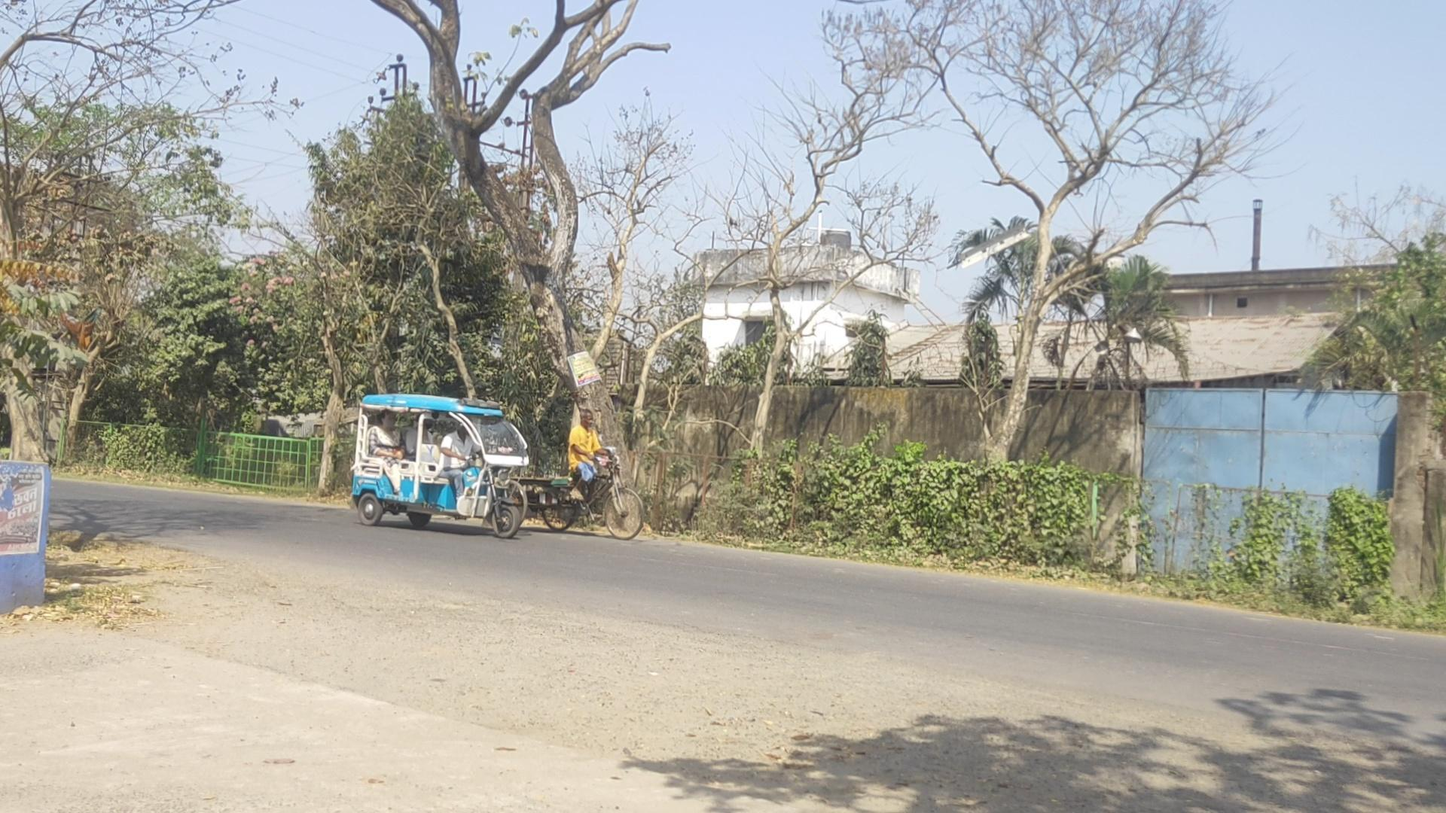Auto: (351, 393, 529, 538)
